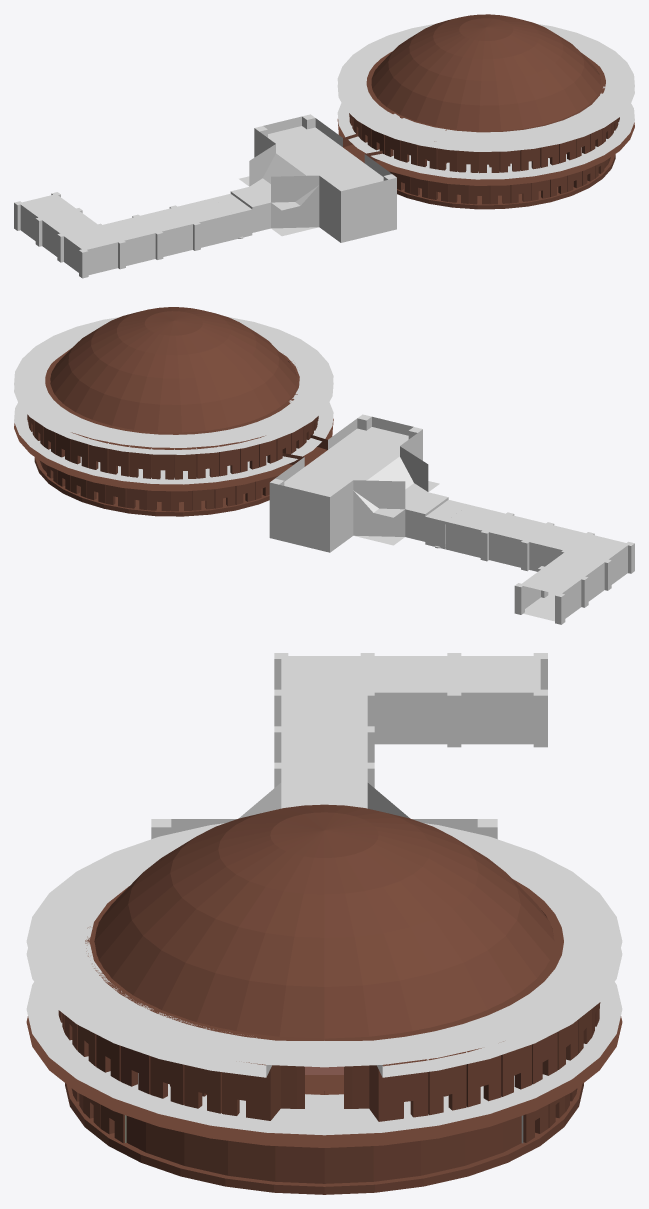
File: whitebox 2 again.fbx
3 views of the same model, one above another, from view 1: azimuth 30°, elevation 25°; view 2: azimuth 150°, elevation 25°; view 3: azimuth 270°, elevation 25° (orthographic). The views are drawn at different scales.
Visible parts, largest first — view 1: Sphere, Cylinder.005, prison wall.002, prison wall.001, Cylinder.002, Cylinder.006, Cylinder.004, Cylinder, wall.047, circle arch, wall.046, wall.024 (+15 smaller); view 2: Sphere, Cylinder.005, prison wall.002, prison wall.001, Cylinder.002, Cylinder.004, Cylinder.006, Cylinder, circle arch, wall.047, wall.046, wall.024 (+13 smaller); view 3: Sphere, Cylinder.005, prison wall.002, Cylinder.002, wall.001, Cylinder.004, Cylinder, Cylinder.006, circle arch, prison wall.001, wall.069, wall.068 (+30 smaller).
Boxes of the visible parts, x1,y1,x2,y2 form: Sphere: (371, 14, 600, 131); Cylinder.005: (337, 23, 634, 145); prison wall.002: (349, 113, 619, 173); prison wall.001: (390, 162, 604, 204); Cylinder.002: (337, 103, 634, 179); Cylinder.006: (337, 85, 634, 151); Cylinder.004: (337, 119, 634, 185); Cylinder: (397, 154, 615, 209); wall.047: (249, 152, 294, 202); circle arch: (366, 51, 605, 167); wall.046: (262, 144, 319, 201); wall.024: (295, 201, 319, 227); Sphere: (50, 307, 297, 432); Cylinder.005: (14, 316, 333, 447); prison wall.002: (27, 414, 318, 479); prison wall.001: (47, 465, 277, 511); Cylinder.002: (14, 402, 333, 484); Cylinder.004: (14, 418, 333, 491); Cylinder.006: (14, 382, 333, 454); Cylinder: (34, 457, 269, 516); circle arch: (45, 352, 299, 470); wall.047: (379, 455, 428, 509); wall.046: (353, 446, 413, 508); wall.024: (353, 508, 379, 536); Sphere: (94, 804, 554, 1039); Cylinder.005: (26, 823, 622, 1067); prison wall.002: (58, 1002, 600, 1121); Cylinder.002: (26, 982, 622, 1135); wall.001: (126, 1116, 521, 1183); Cylinder.004: (26, 1016, 622, 1147); Cylinder: (65, 1040, 583, 1194); Cylinder.006: (26, 949, 622, 1077); circle arch: (85, 879, 563, 1108); prison wall.001: (71, 1088, 577, 1143); wall.069: (461, 692, 497, 744); wall.068: (497, 692, 533, 744).
Bounding box in the file's own units: 14275 × 3512 × 6753.
